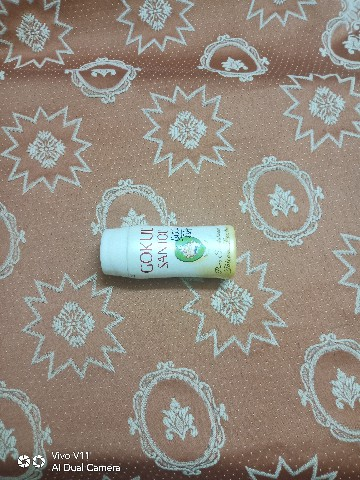gokulsantol small: (89, 211, 257, 297)
